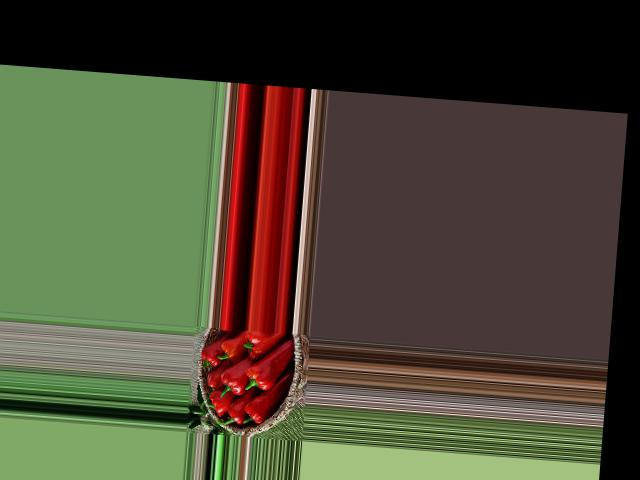bell_pepper: (222, 397, 248, 429)
